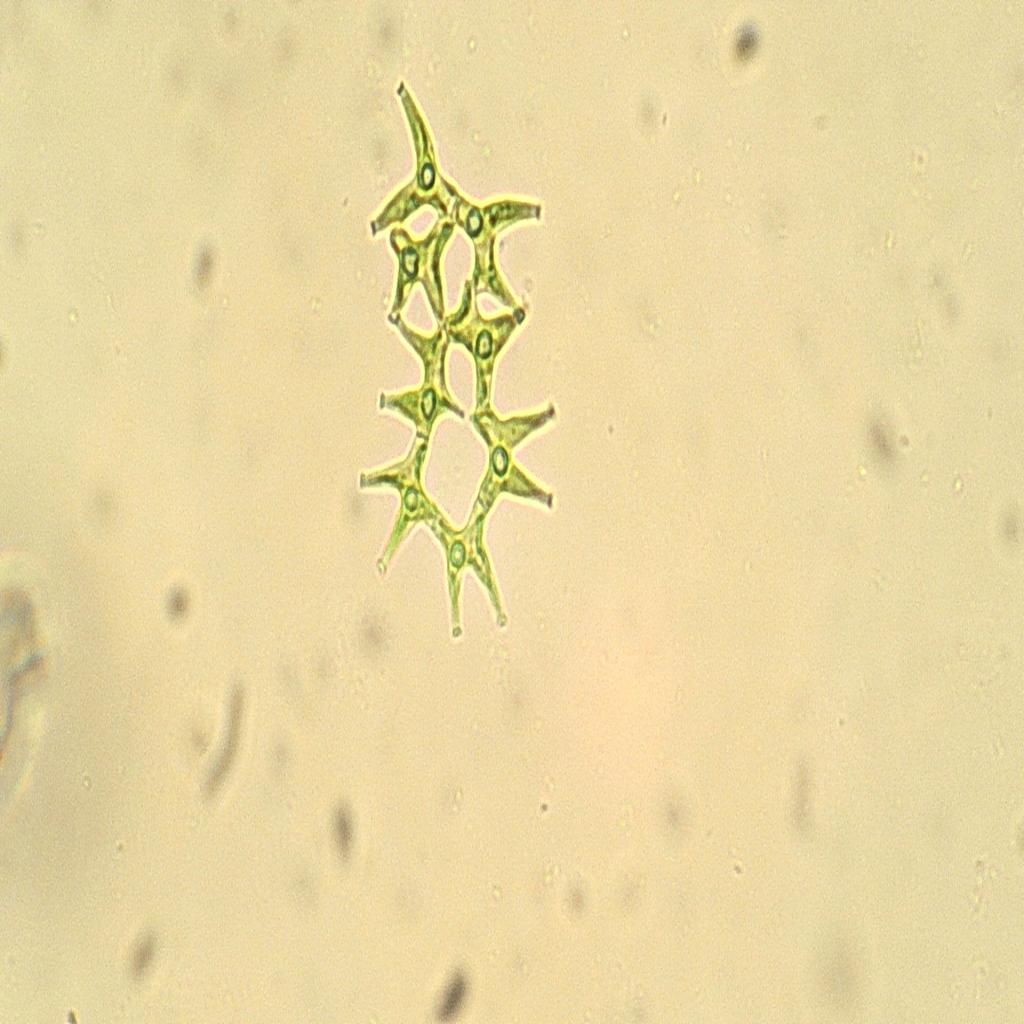Pediastrum_CFI: (346, 64, 560, 668)
